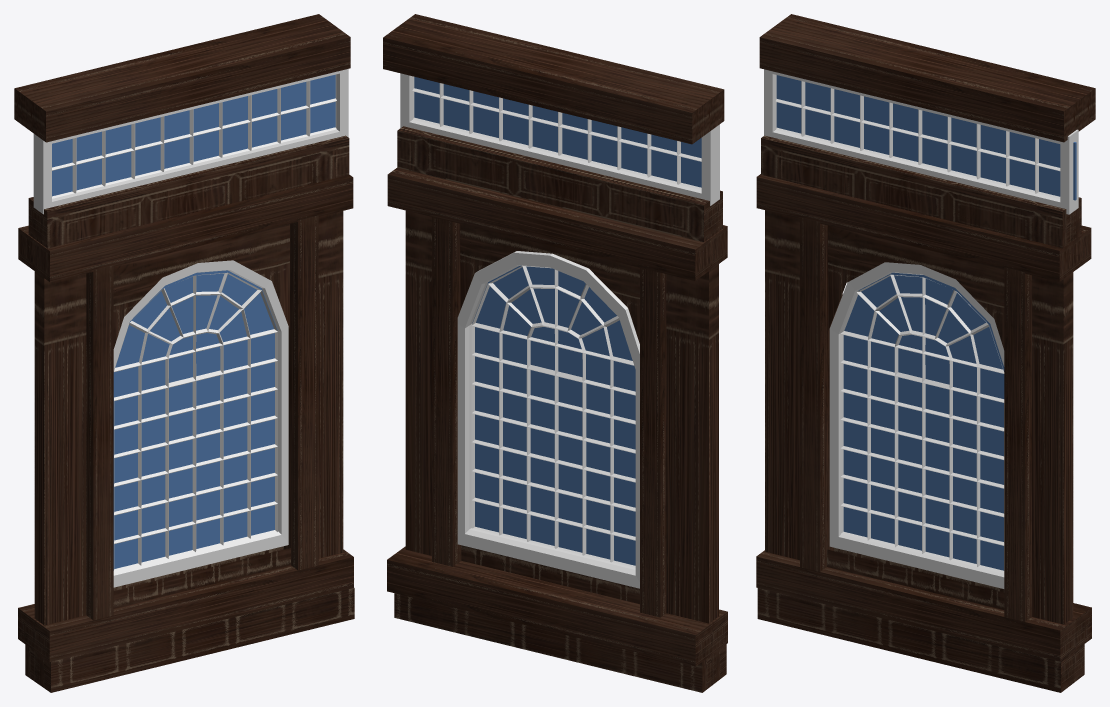
Rendered from walls (2).fbx.
3 renders of one model, left to right at view 1: azimuth 30°, elevation 25°; view 2: azimuth 150°, elevation 25°; view 3: azimuth 330°, elevation 25°, orthographic.
Parts seen in each view (by area): view 1: TripleWindow_Wallpiece003, Glass pane003, GlassPaneCurve059, GlassWindowFrame050, WindowFrames004, CurvedWindow_FRAME020, WindowFrameCurve020; view 2: TripleWindow_Wallpiece003, Glass pane003, GlassWindowFrame050, WindowFrames004, GlassPaneCurve059, CurvedWindow_FRAME020, WindowFrameCurve020; view 3: TripleWindow_Wallpiece003, Glass pane003, GlassPaneCurve059, GlassWindowFrame050, WindowFrames004, CurvedWindow_FRAME020, WindowFrameCurve020.
Part boxes in pixels (x1,y1,x2,y2): TripleWindow_Wallpiece003: (14,14,354,692); Glass pane003: (113,270,277,570); GlassPaneCurve059: (52,74,335,196); GlassWindowFrame050: (114,272,277,572); WindowFrames004: (113,260,288,587); CurvedWindow_FRAME020: (33,69,348,214); WindowFrameCurve020: (52,74,336,198); TripleWindow_Wallpiece003: (383,14,727,692); Glass pane003: (472,265,635,565); GlassWindowFrame050: (471,266,635,567); WindowFrames004: (457,251,639,588); GlassPaneCurve059: (414,76,701,187); CurvedWindow_FRAME020: (400,73,719,205); WindowFrameCurve020: (412,76,701,189); TripleWindow_Wallpiece003: (756,14,1095,692); Glass pane003: (843,272,1004,570); GlassPaneCurve059: (776,75,1076,200); GlassWindowFrame050: (840,274,1004,573); WindowFrames004: (829,262,1004,588); CurvedWindow_FRAME020: (764,69,1078,214); WindowFrameCurve020: (775,81,1060,198).
Size of the model in its own units: 192 by 345 by 37.96.
